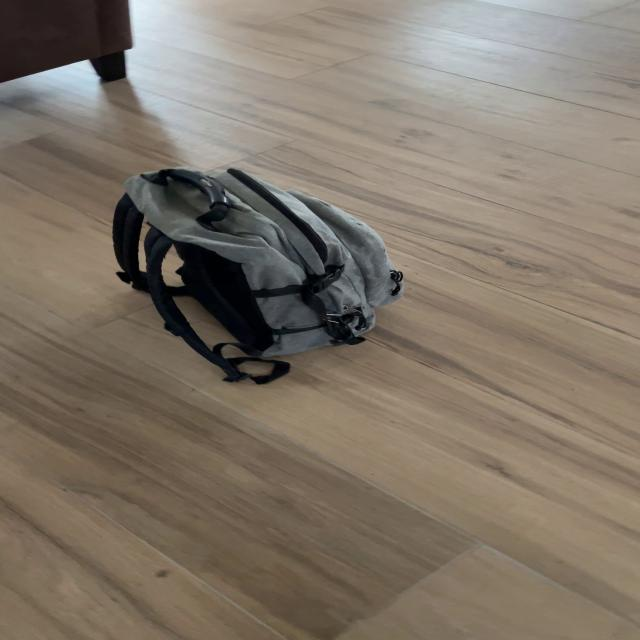backpack: (80, 153, 433, 385)
